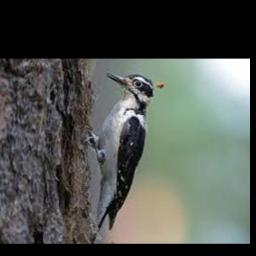Woodpecker: (85, 72, 164, 238)
